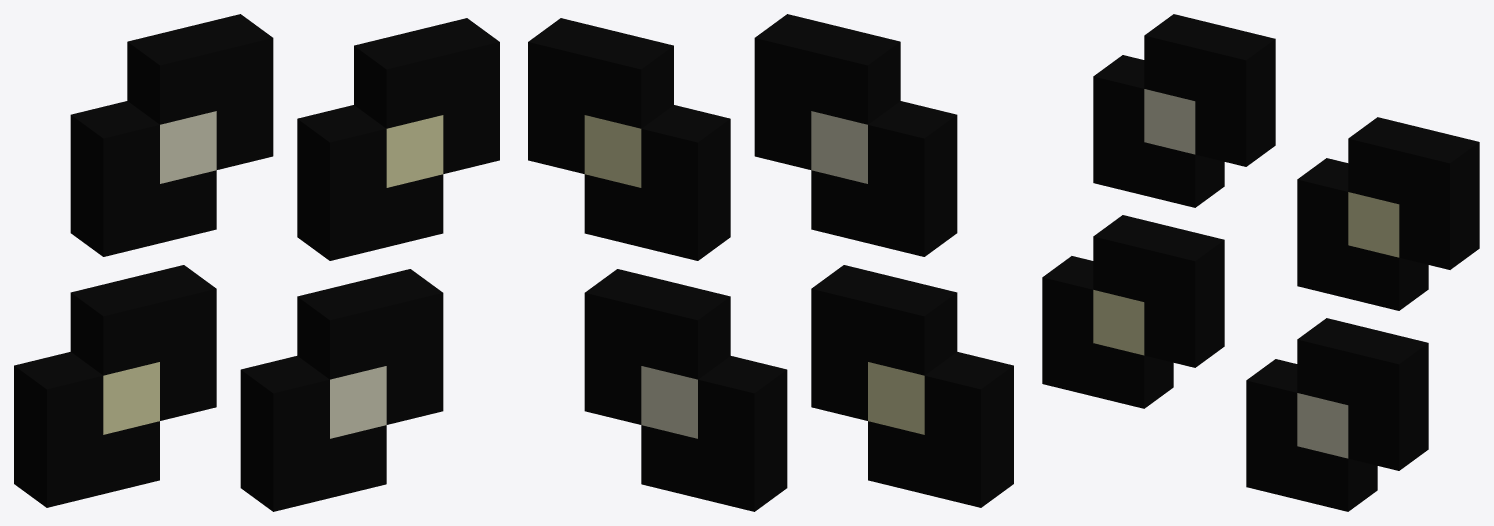
Rendered from Rice.glb.
The picture shows the model from 3 angles, left to right: view 1: azimuth 30°, elevation 25°; view 2: azimuth 150°, elevation 25°; view 3: azimuth 330°, elevation 25°; orthographic projection. The views are drawn at different scales.
Parts seen in each view (by area): view 1: generated(Clone); view 2: generated(Clone); view 3: generated(Clone).
Boxes of the visible parts, <box> form: generated(Clone): <box>14,14,499,511</box>; generated(Clone): <box>528,14,1013,511</box>; generated(Clone): <box>1042,14,1479,511</box>.
Size of the model in its own units: 8 by 8 by 1.
Materials: 1 (1 with a texture image).
